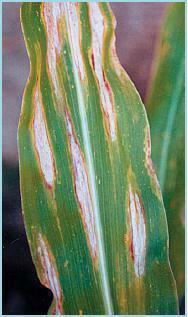Corn_Blight: (32, 4, 143, 147), (11, 154, 106, 315), (111, 159, 154, 304)
